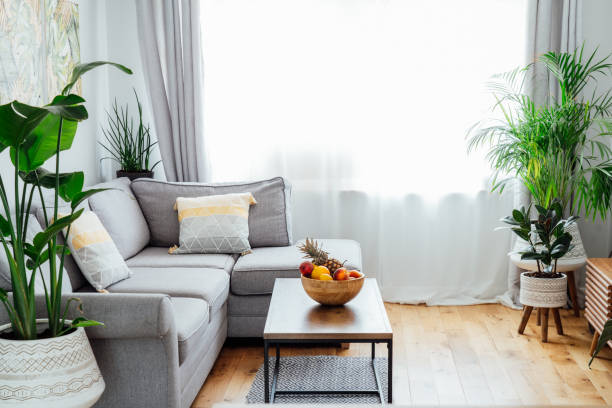large plant: (0, 58, 114, 408), (483, 48, 606, 269), (105, 88, 167, 178)
small plant: (498, 205, 580, 343)
sofa: (1, 175, 364, 408)
table: (261, 274, 395, 407)
